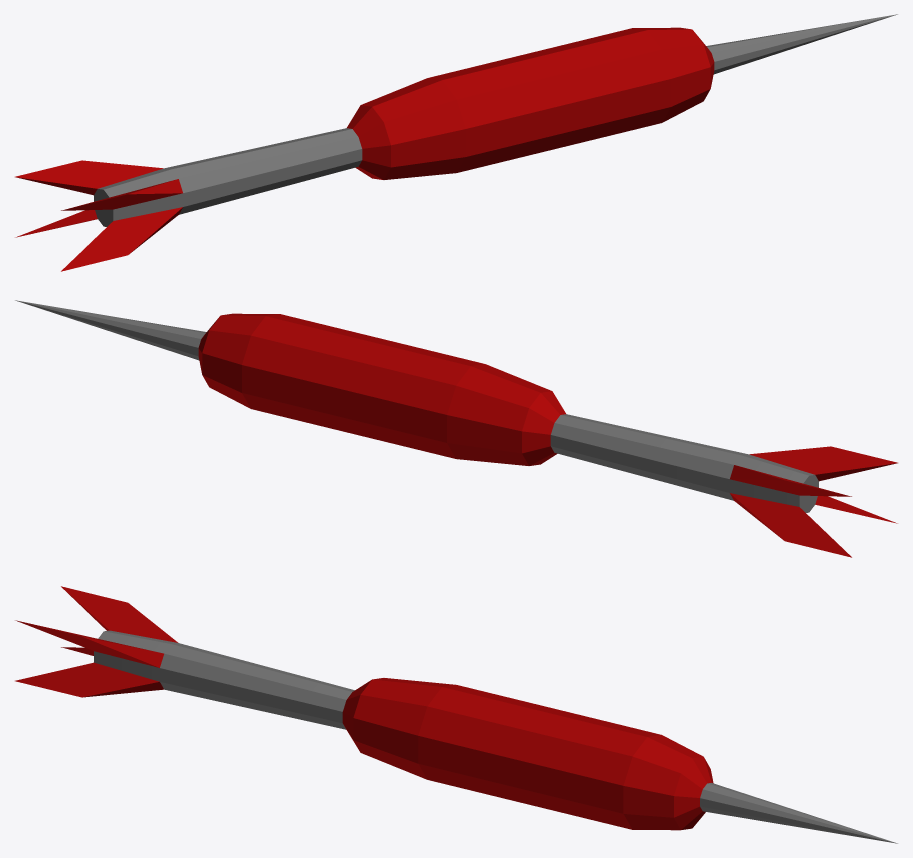
Rendered from Dart_Placehold.fbx.
3 views of the same model, one above another, from view 1: azimuth 30°, elevation 25°; view 2: azimuth 150°, elevation 25°; view 3: azimuth 330°, elevation 25° (orthographic).
Visible parts, largest first — view 1: pCylinder1; view 2: pCylinder1; view 3: pCylinder1.
Part boxes in pixels (x1,y1,x2,y2): pCylinder1: (15, 14, 897, 271); pCylinder1: (15, 300, 897, 557); pCylinder1: (15, 586, 897, 843).
Bounding box in the file's own units: 44.14 × 4.44 × 4.22.
